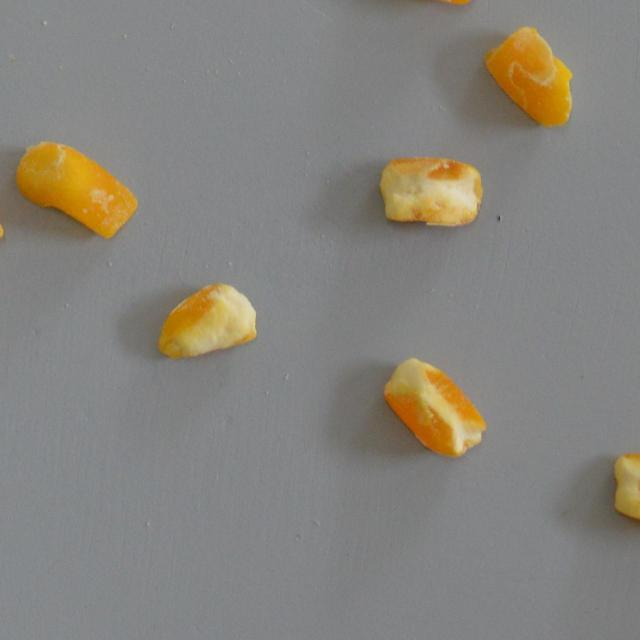dañado: (12, 135, 140, 242), (378, 349, 488, 462), (480, 23, 576, 130), (373, 147, 486, 229), (154, 278, 260, 362), (606, 442, 640, 538), (400, 0, 494, 9)
